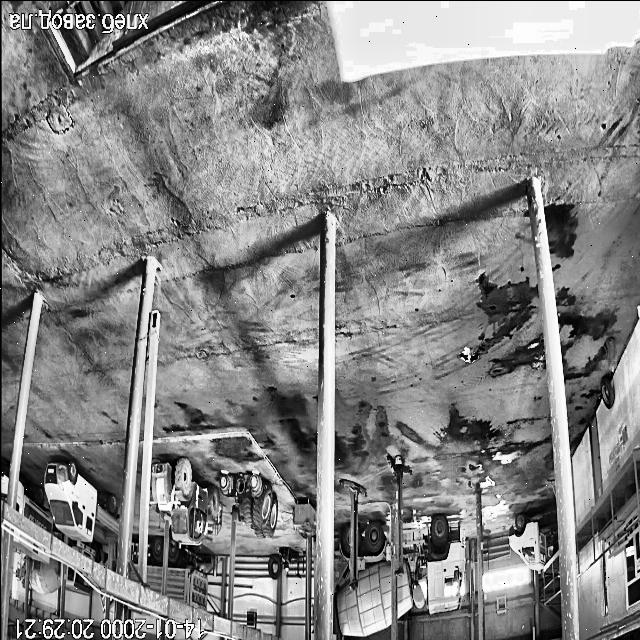car lift: (340, 479, 366, 588), (387, 455, 411, 573)
tractor: (151, 459, 222, 544), (220, 474, 277, 537)
truck: (396, 516, 464, 616), (334, 522, 392, 636), (44, 460, 119, 540), (167, 540, 207, 611), (508, 514, 556, 572), (16, 484, 52, 532), (30, 557, 60, 594), (146, 537, 163, 592), (12, 538, 48, 562), (66, 567, 92, 594), (70, 543, 103, 563), (0, 464, 8, 500), (16, 480, 24, 510), (132, 543, 140, 562), (19, 564, 24, 583), (130, 571, 136, 580)
